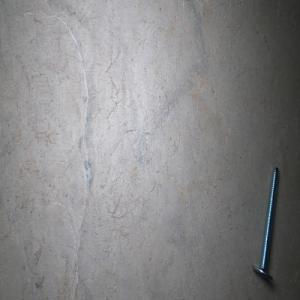Bolt: (251, 165, 279, 280)
